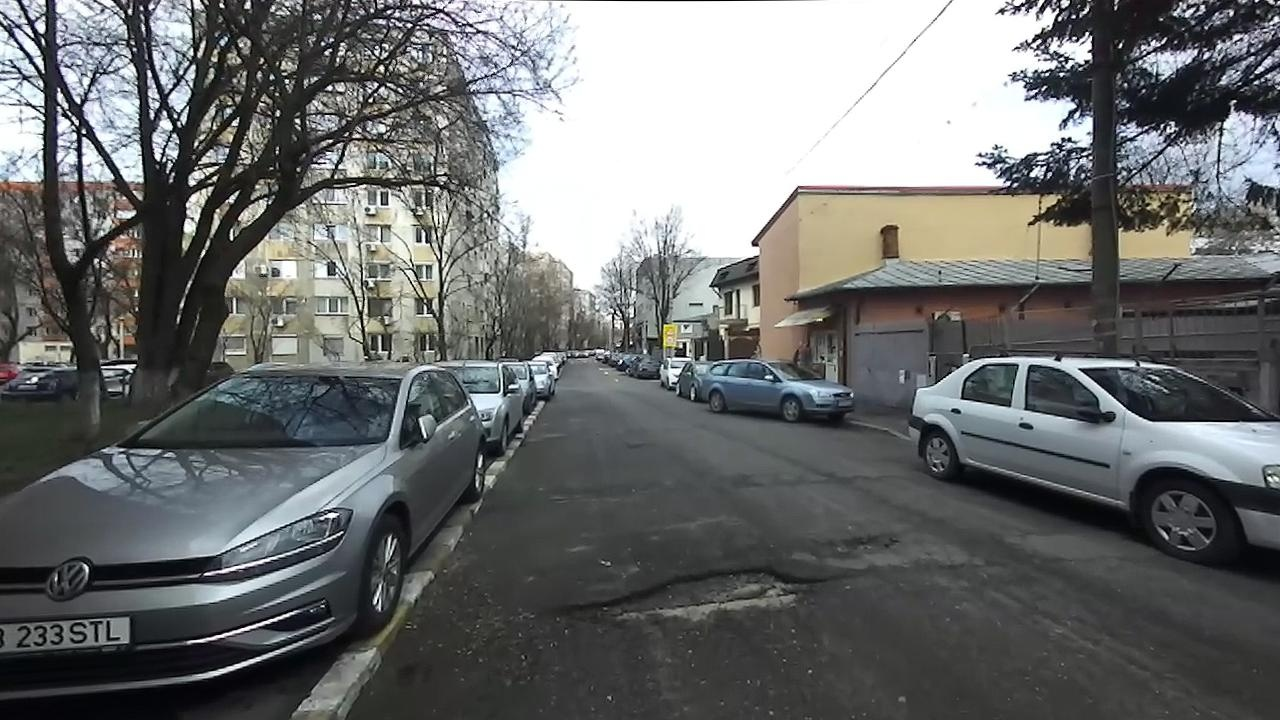pothole: (553, 564, 832, 640), (806, 527, 904, 558)
